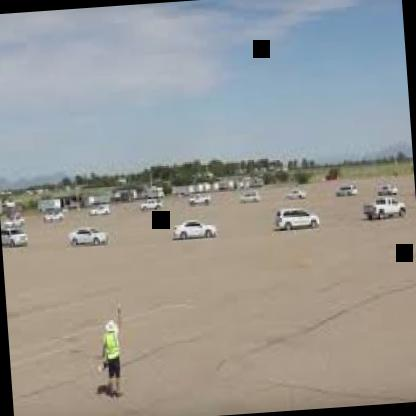car: (160, 208, 218, 252), (362, 192, 415, 233), (272, 199, 324, 238), (70, 224, 113, 255)
